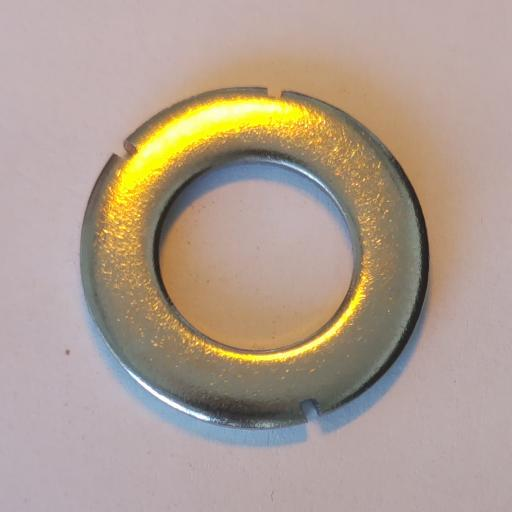burr: (298, 397, 323, 424), (112, 140, 140, 162), (266, 87, 284, 100)
